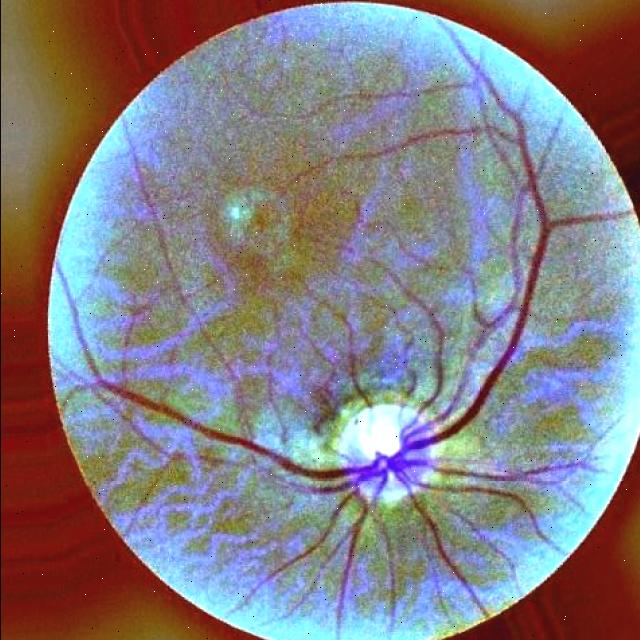Macula: (236, 196, 293, 247)
Nerves: (97, 67, 616, 624), (395, 282, 445, 414), (348, 352, 368, 403)
Optic Disk: (331, 403, 436, 502)
